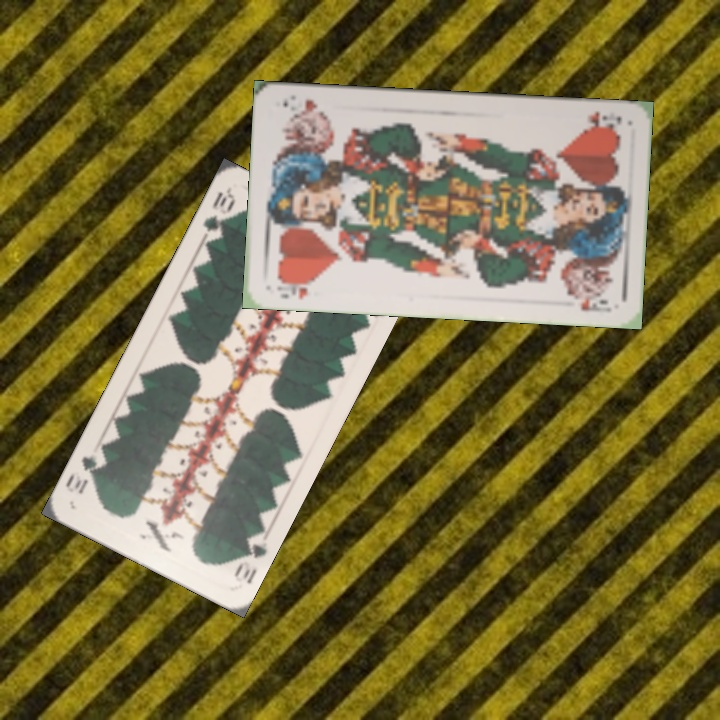G10: (198, 187, 238, 245), (229, 529, 269, 586)
HO: (273, 274, 317, 302), (579, 107, 624, 133)
